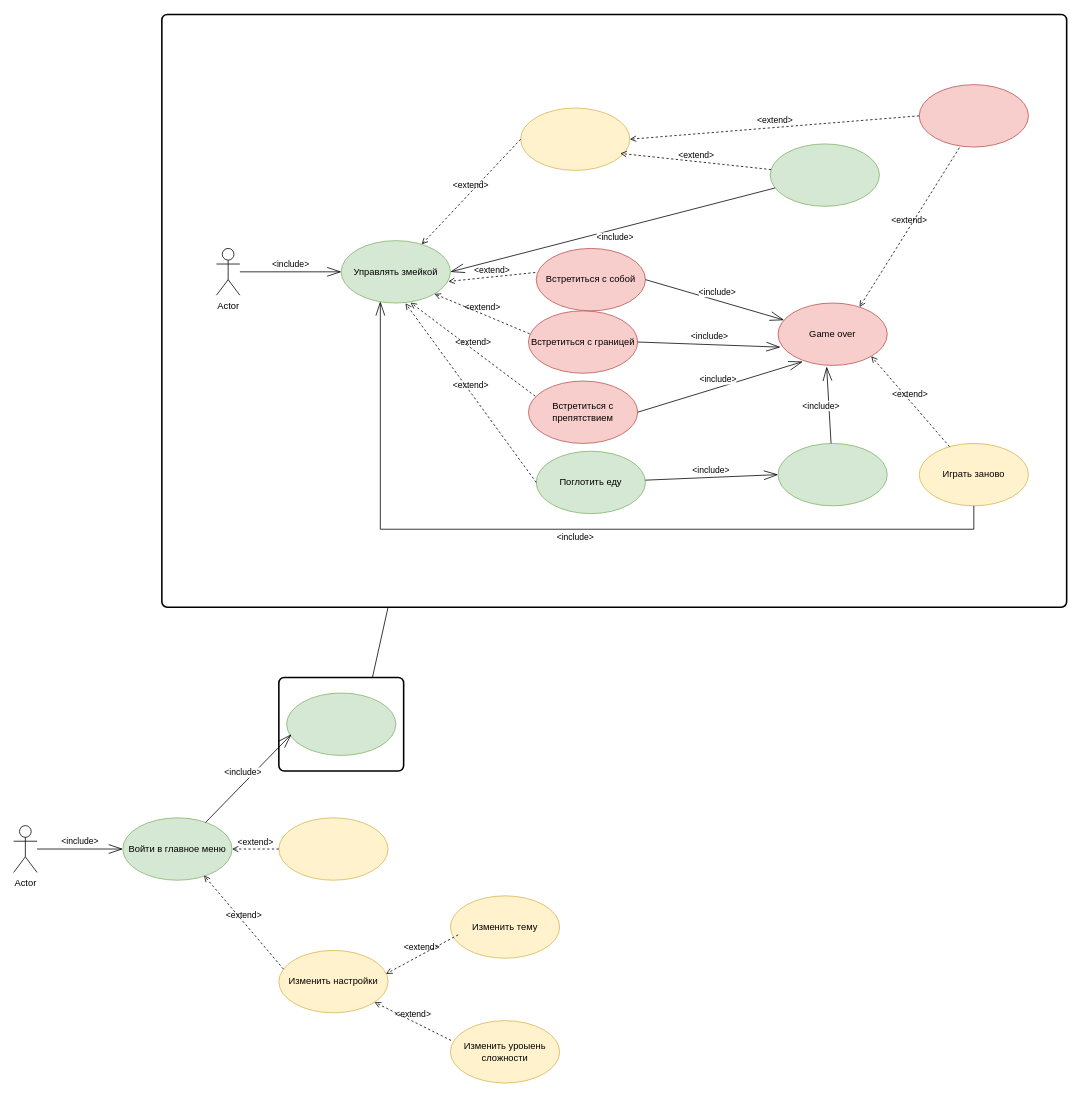
Some shapes in this 1081 by 1097 pixel diagram are drawn without their labels. Here are the shapes that lost their labels. From the top down, the centre of each, then its label:
(973,115): Выйти из игры
(575,138): Выйти в меню паузы
(824,174): Продолжить игру
(832,474): Увеличиться в размерах
(341,723): Начать игру
(333,848): Посмотреть таблицу рекордов
